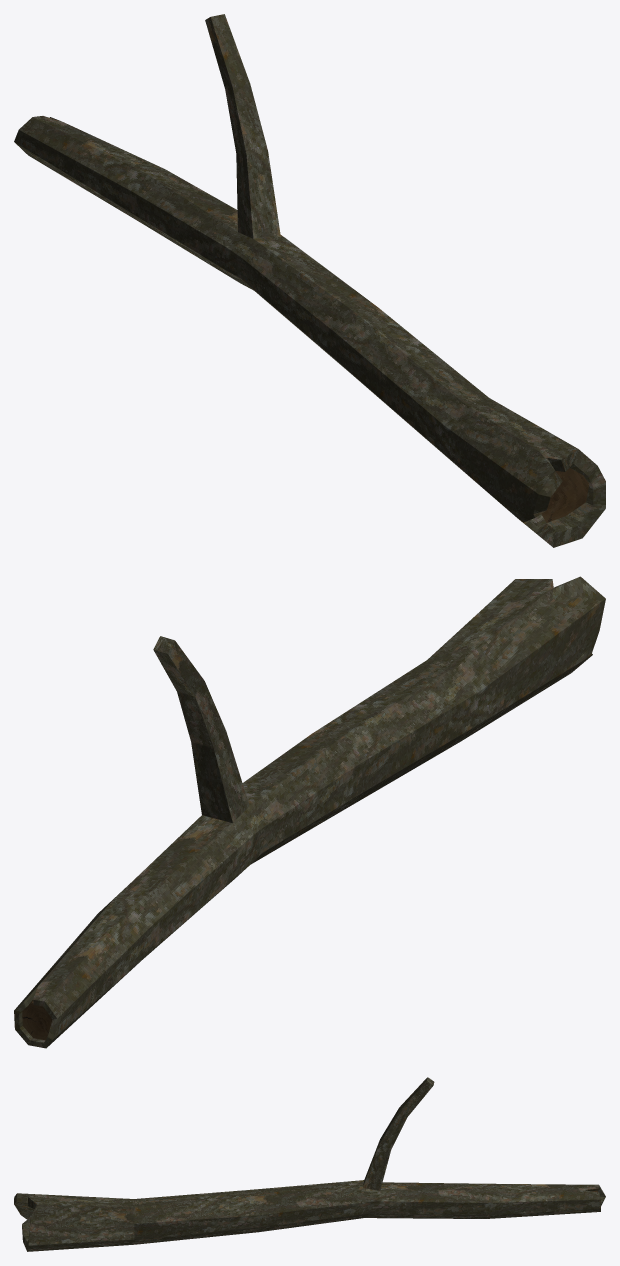
File: fallen_tree1.glb
The picture shows the model from 3 angles, top to bottom: view 1: azimuth 30°, elevation 25°; view 2: azimuth 150°, elevation 25°; view 3: azimuth 270°, elevation 25°; orthographic projection. The views are drawn at different scales.
Visible parts, largest first — view 1: Cylinder; view 2: Cylinder; view 3: Cylinder.
Part boxes in pixels (x1,y1,x2,y2): Cylinder: (14, 14, 605, 547); Cylinder: (14, 576, 605, 1048); Cylinder: (14, 1077, 605, 1251).
Size of the model in its own units: 0.2828 by 0.7356 by 2.38.
2 materials, 2 textured.
